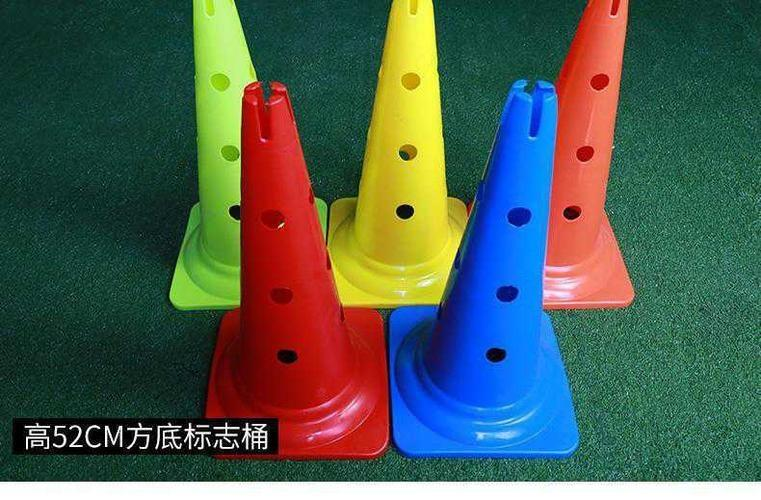cone_barrel: (417, 66, 579, 443), (214, 71, 368, 442), (341, 6, 467, 297), (536, 14, 644, 312), (171, 4, 268, 305)
